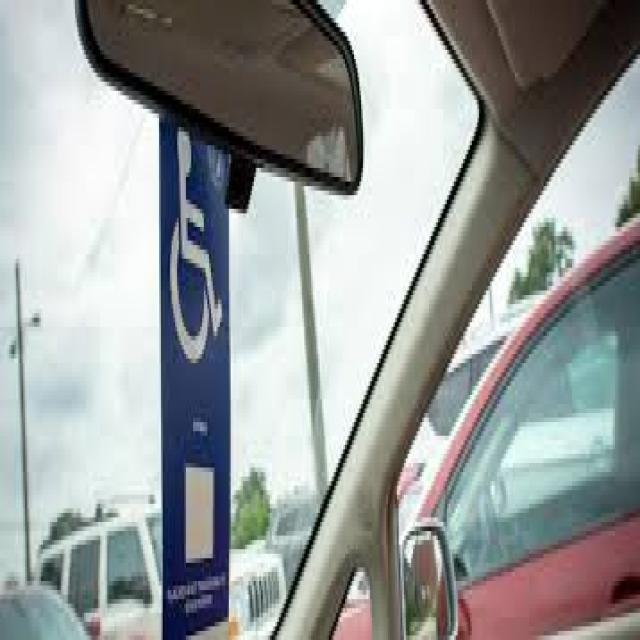symbol_of_access: (170, 123, 227, 371)
